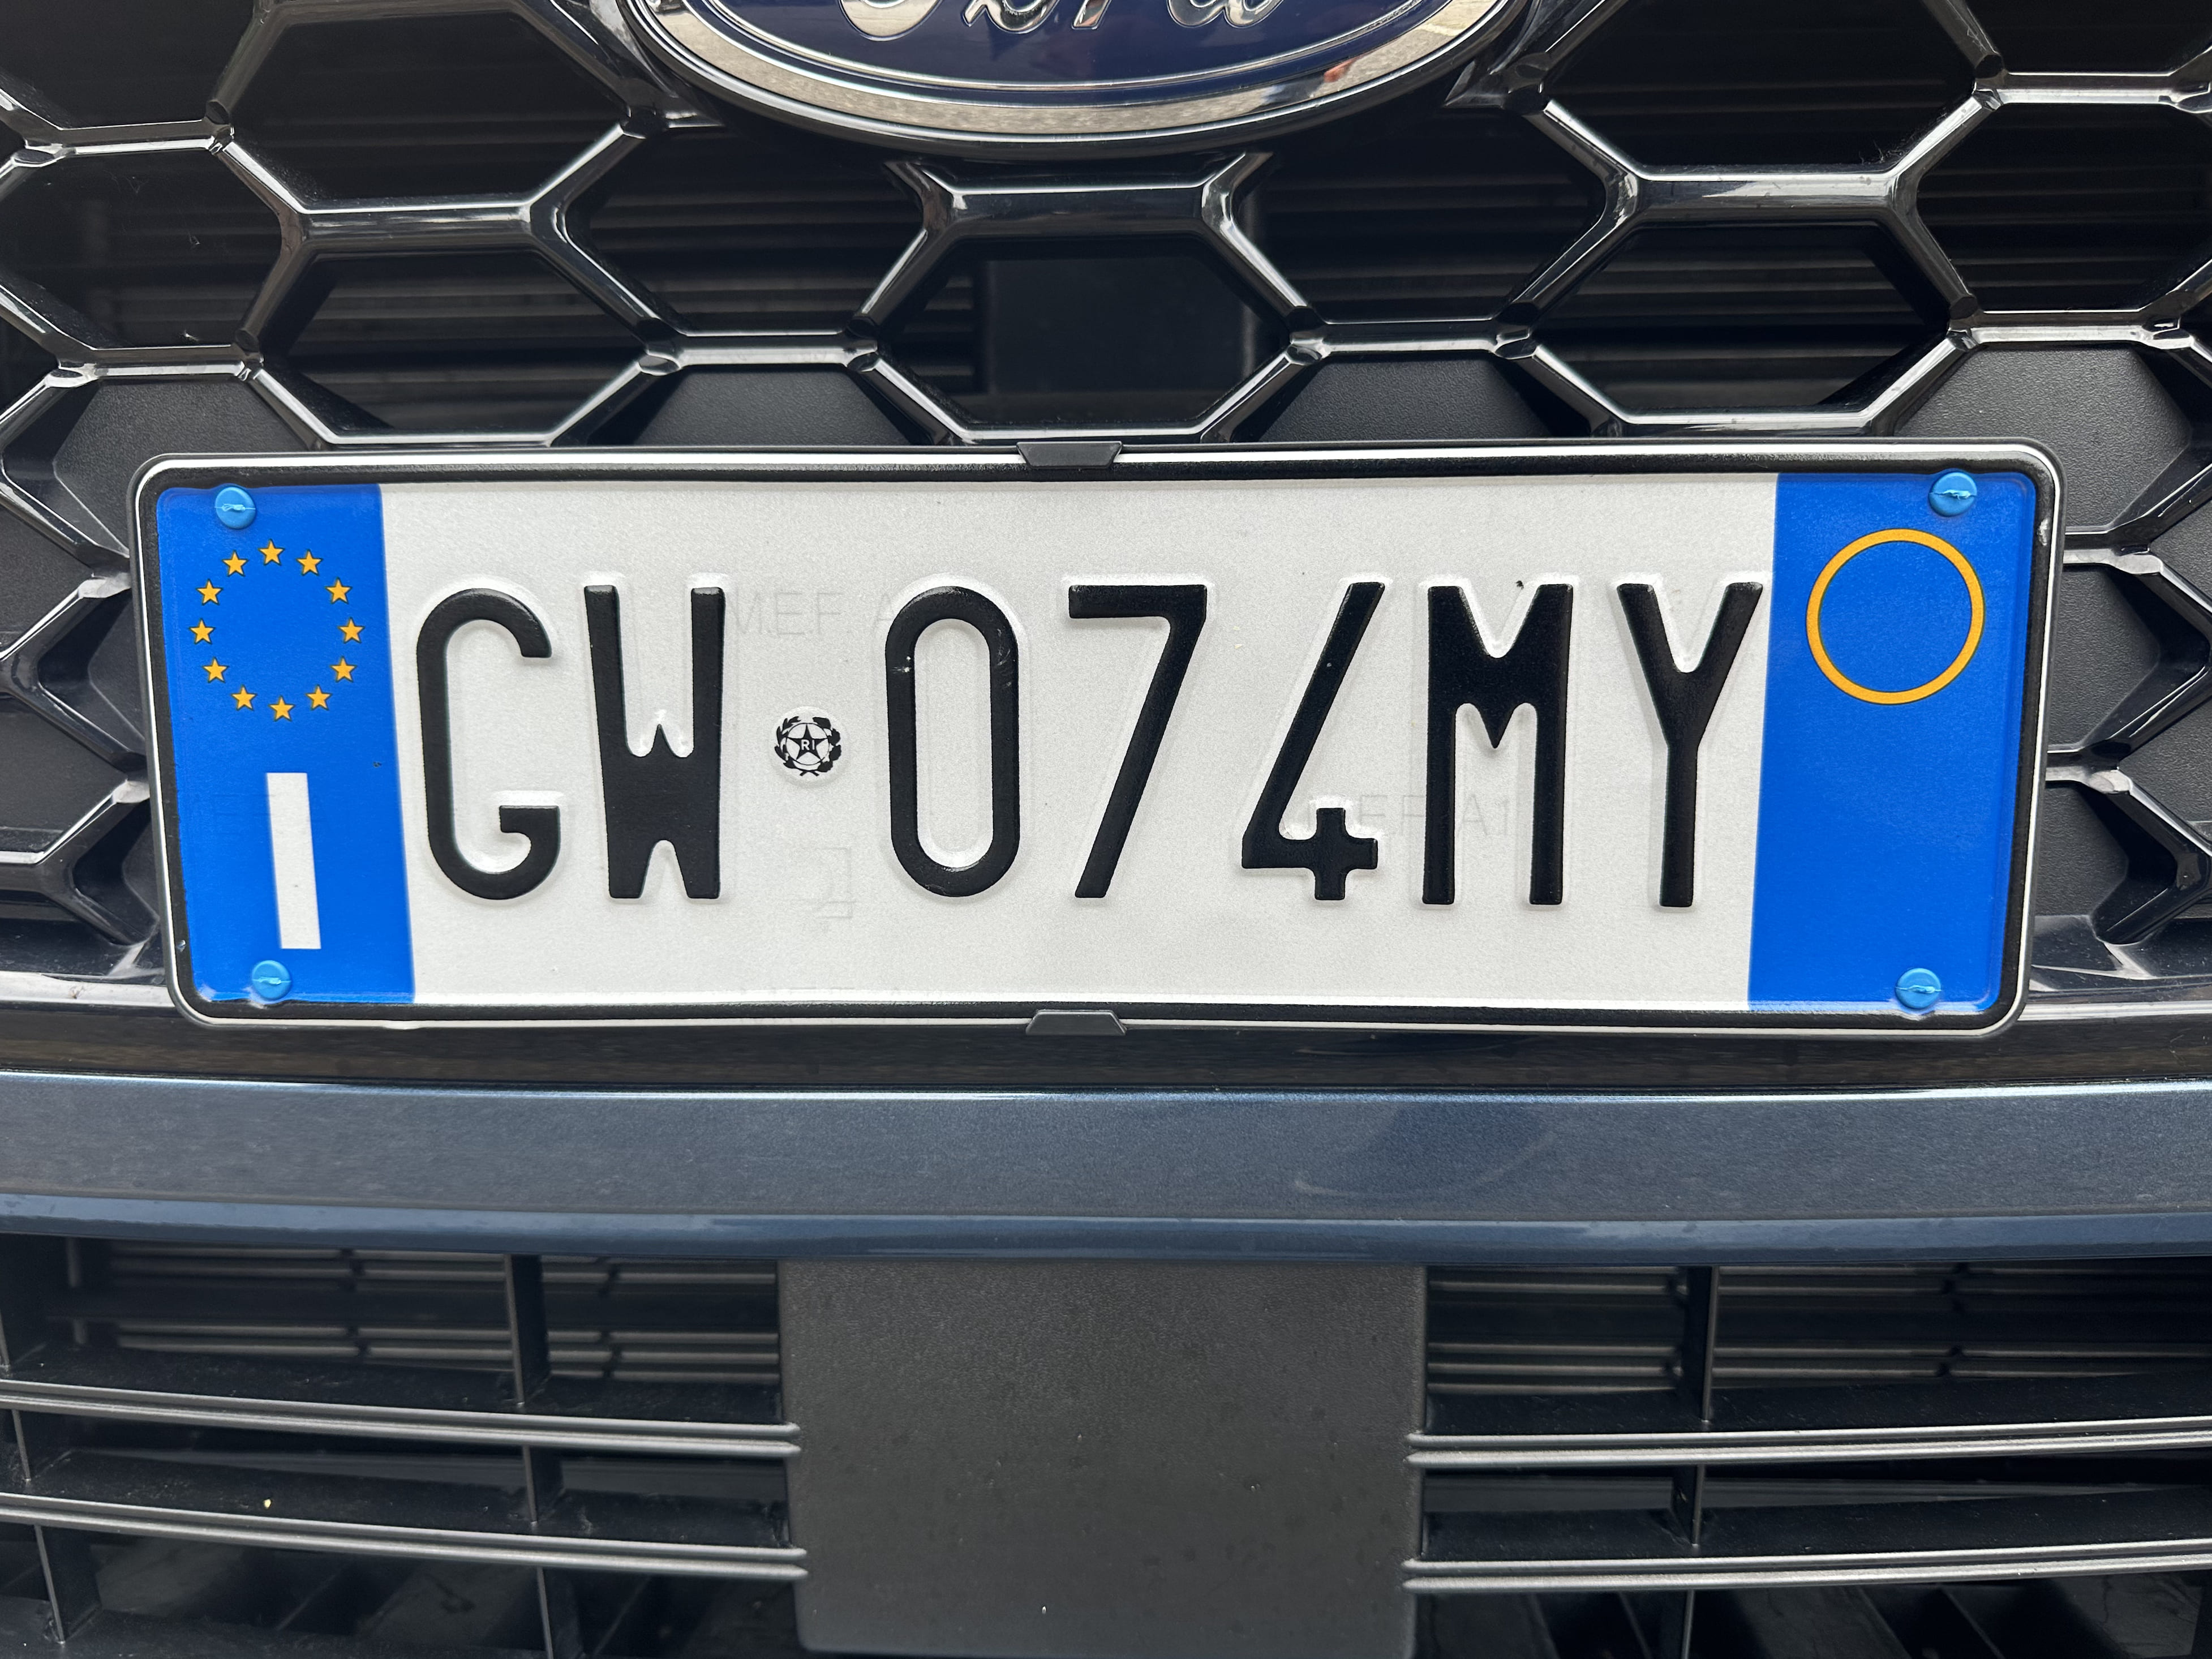license-plate: (124, 436, 2063, 1036)
